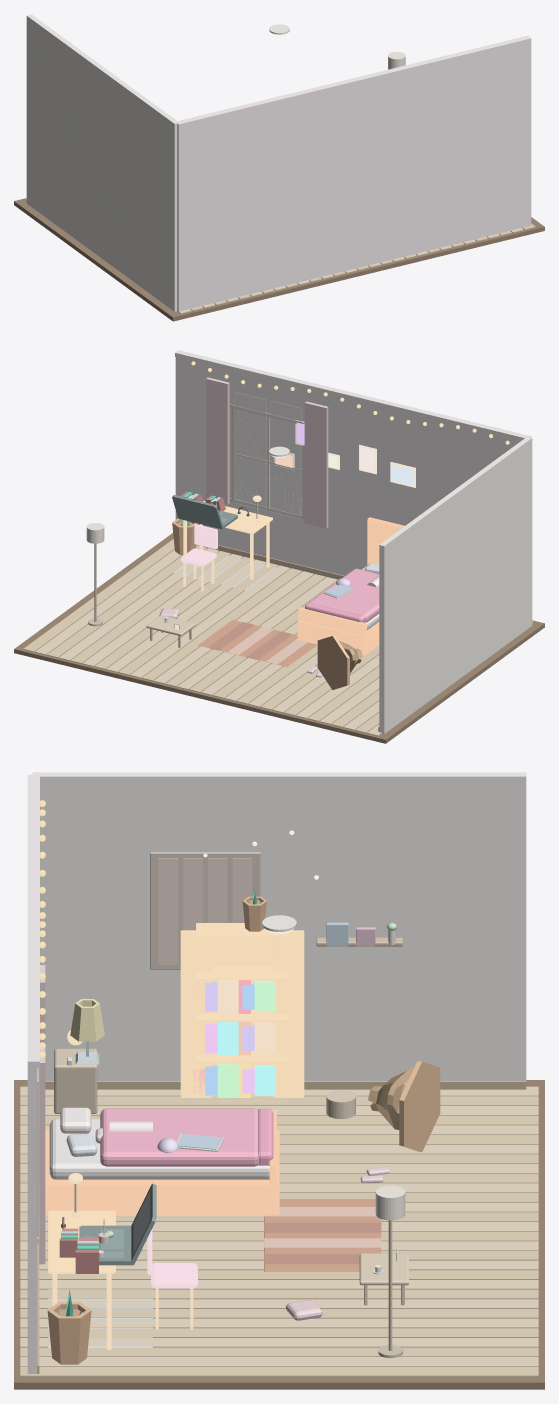
Rendered from cozy-bedroom-v9.glb.
The picture shows the model from 3 angles, top to bottom: view 1: azimuth 30°, elevation 25°; view 2: azimuth 150°, elevation 25°; view 3: azimuth 270°, elevation 25°; orthographic projection. The views are drawn at different scales.
Parts seen in each view (by area): view 1: WBack, WLeft, FloorBase, CR_B; view 2: WBack, WLeft, FloorBase, CuInR, CuInL, CuOutL, CuOutR, CR_B, Blanket, Plank20, Plank29, Plank19 (+36 smaller); view 3: WLeft, FloorBase, BBase, Blanket, WBack, Plank29, Plank21, Plank24, Plank28, SR, Plank25, Plank26 (+60 smaller).
Boxes of the visible parts, x1,y1,x2,y2 form: WBack: (176, 36, 531, 311); WLeft: (26, 14, 178, 311); FloorBase: (14, 198, 544, 321); CR_B: (176, 35, 528, 122); WBack: (175, 350, 531, 575); WLeft: (379, 436, 532, 733); FloorBase: (14, 533, 544, 743); CuInR: (234, 392, 266, 510); CuInL: (270, 400, 301, 519); CuOutL: (304, 401, 328, 528); CuOutR: (206, 377, 229, 504); CR_B: (175, 352, 527, 440); Blanket: (309, 568, 379, 622); Plank20: (130, 565, 290, 678); Plank29: (23, 539, 174, 651); Plank19: (141, 568, 302, 680); WLeft: (32, 772, 526, 1080); FloorBase: (14, 1080, 544, 1389); BBase: (45, 1129, 279, 1215); Blanket: (100, 1108, 258, 1166); WBack: (27, 774, 37, 1373); Plank29: (20, 1366, 538, 1376); Plank21: (20, 1289, 538, 1299); Plank24: (20, 1318, 538, 1328); Plank28: (20, 1357, 538, 1366); SR: (273, 930, 304, 1097); Plank25: (20, 1328, 538, 1337); Plank26: (20, 1338, 538, 1347).
Size of the model in its own units: 5.8 by 2.86 by 4.3.
